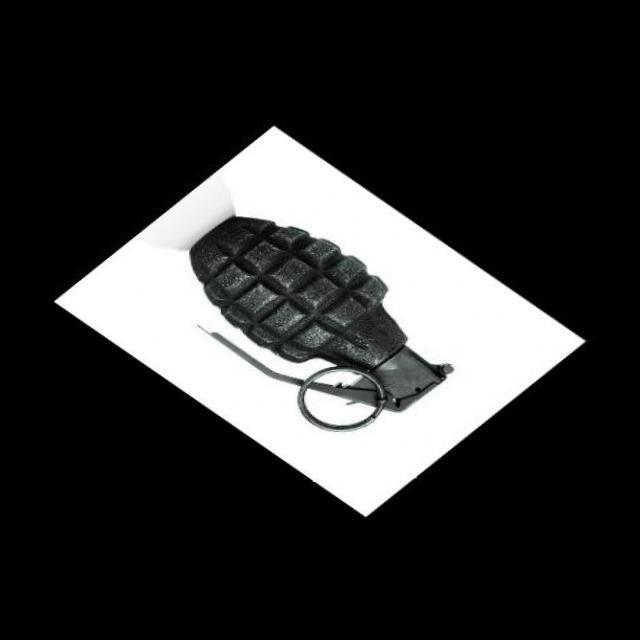grenade: (195, 198, 456, 447)
